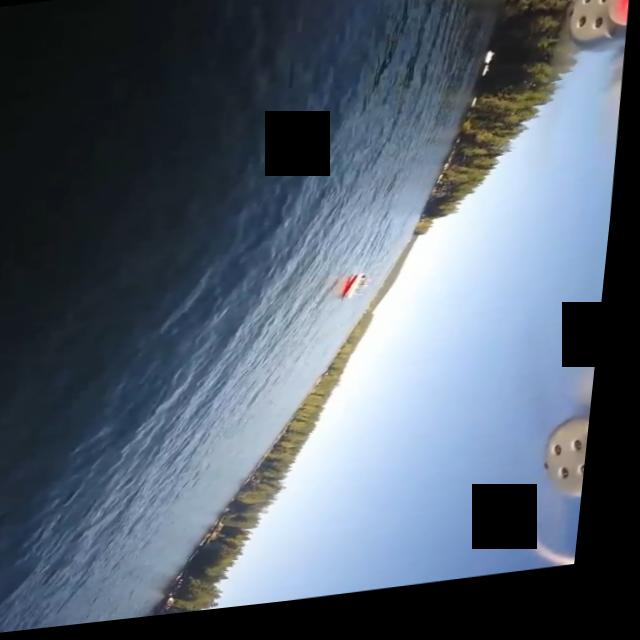Vehicle: (347, 278, 382, 308)
